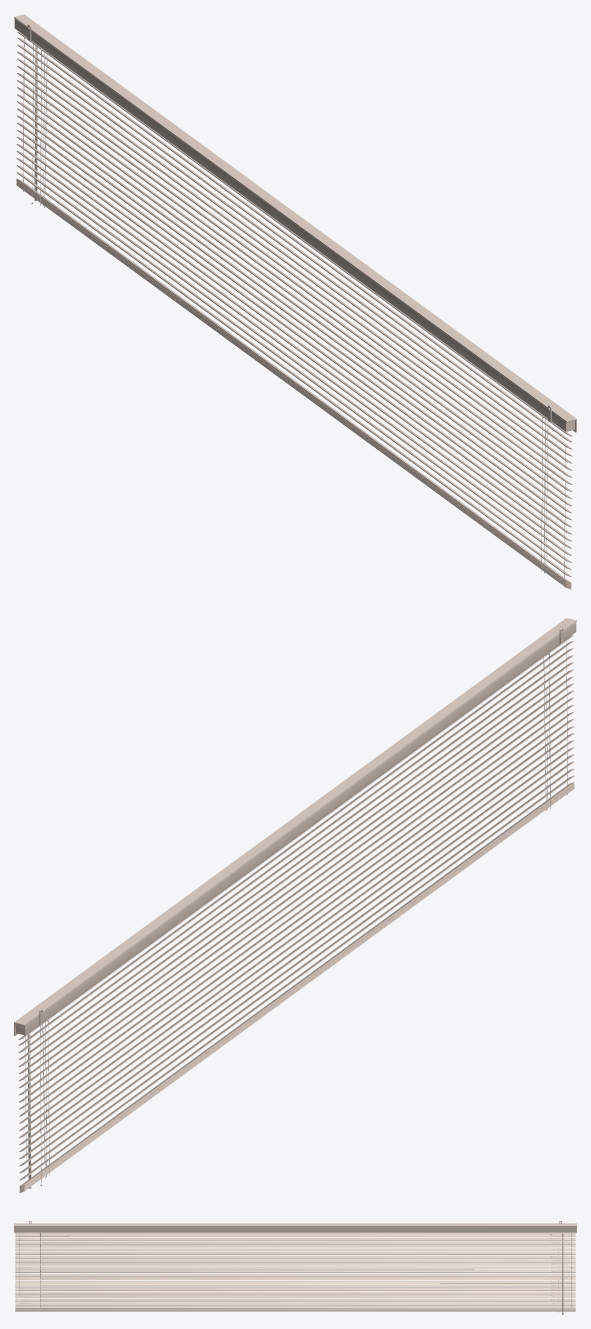
The model's file is XD-百叶窗.fbx.
The picture shows the model from 3 angles, top to bottom: view 1: azimuth 30°, elevation 25°; view 2: azimuth 150°, elevation 25°; view 3: azimuth 270°, elevation 25°; orthographic projection. The views are drawn at different scales.
Visible parts, largest first — view 1: XD-百叶窗; view 2: XD-百叶窗; view 3: XD-百叶窗.
Boxes of the visible parts, x1,y1,x2,y2 form: XD-百叶窗: (14, 14, 576, 589); XD-百叶窗: (14, 618, 576, 1192); XD-百叶窗: (14, 1221, 576, 1314).
Size of the model in its own units: 0.0712 by 5.81 by 1.04.
